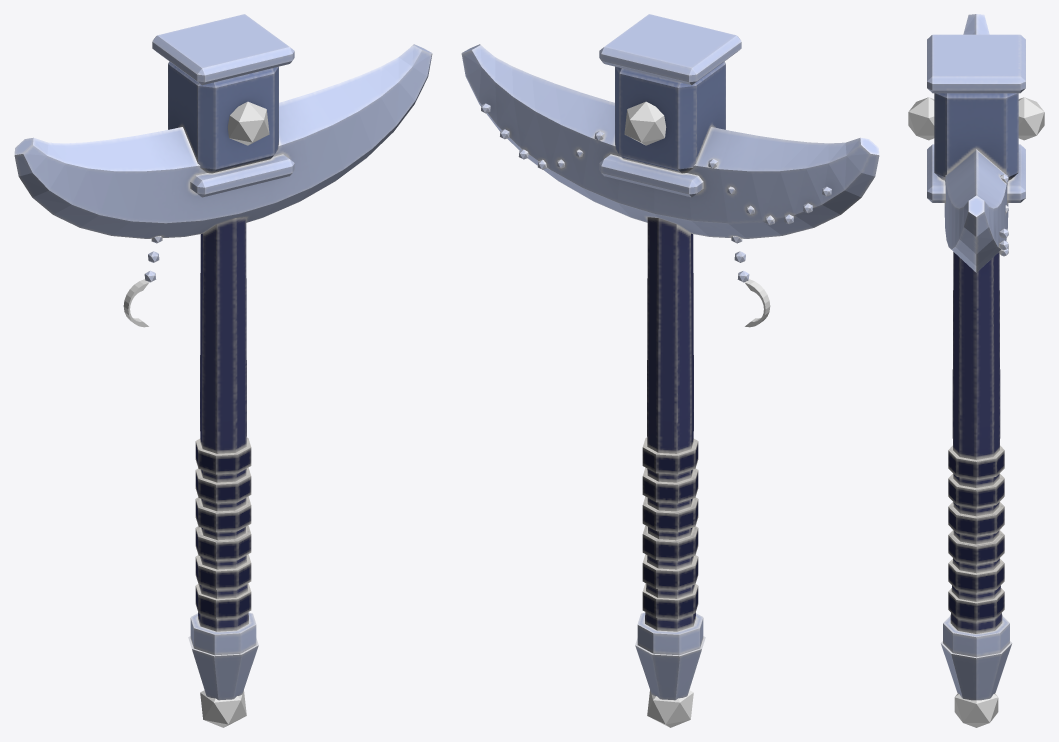
Rendered from MoonlitPickaxe.glb.
3 views of the same model, side by side, from view 1: azimuth 30°, elevation 25°; view 2: azimuth 150°, elevation 25°; view 3: azimuth 270°, elevation 25° (orthographic). The views are drawn at different scales.
Parts seen in each view (by area): view 1: Body__Tex, Head__Gem; view 2: Body__Tex, Head__Gem; view 3: Body__Tex, Head__Gem.
Part boxes in pixels (x1,y1,x2,y2): Body__Tex: (14, 14, 432, 700); Head__Gem: (200, 101, 269, 727); Body__Tex: (461, 14, 879, 700); Head__Gem: (624, 101, 693, 727); Body__Tex: (927, 14, 1025, 700); Head__Gem: (908, 97, 1044, 727).
Size of the model in its own units: 2.57 by 4.04 by 0.7412.
1 material, 1 textured.
